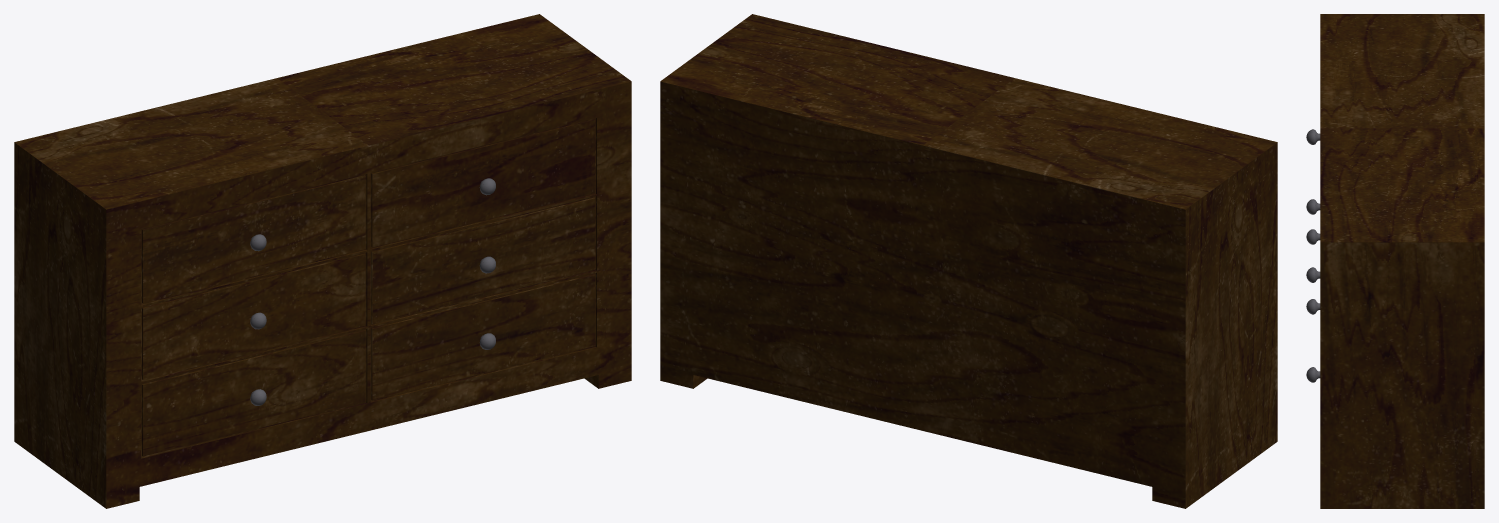
Rendered from dresser texture.fbx.
3 views of the same model, side by side, from view 1: azimuth 30°, elevation 25°; view 2: azimuth 150°, elevation 25°; view 3: azimuth 270°, elevation 25° (orthographic). The views are drawn at different scales.
Parts seen in each view (by area): view 1: polySurface14; view 2: polySurface14; view 3: polySurface14.
Part boxes in pixels (bbox=[...]): polySurface14: bbox=[14, 14, 631, 508]; polySurface14: bbox=[660, 14, 1277, 508]; polySurface14: bbox=[1306, 14, 1484, 508].
Size of the model in its own units: 4.28 by 2.33 by 1.41.
Materials: 2 (2 with a texture image).
